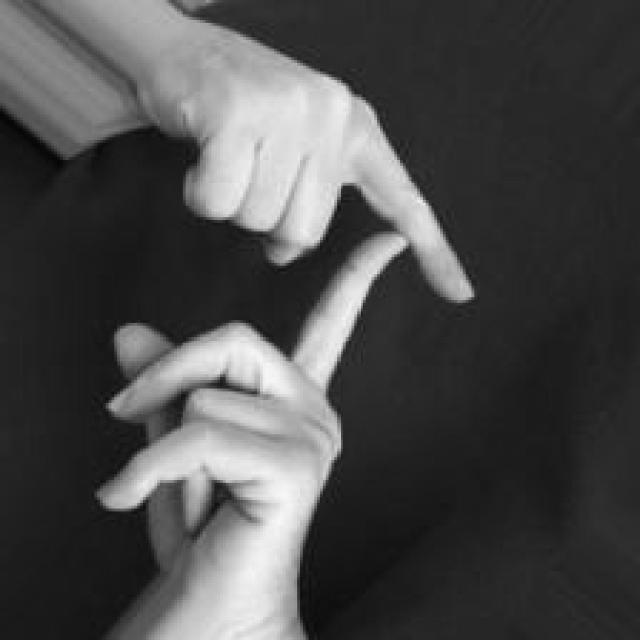T: (73, 0, 479, 640)
